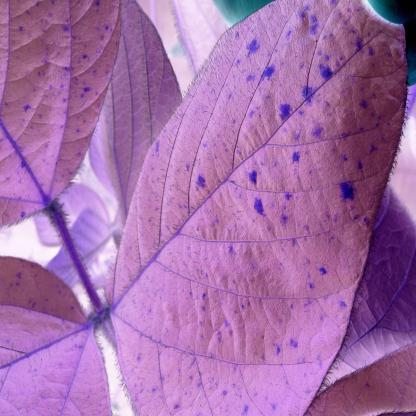soybean leaf: (10, 1, 304, 416)
